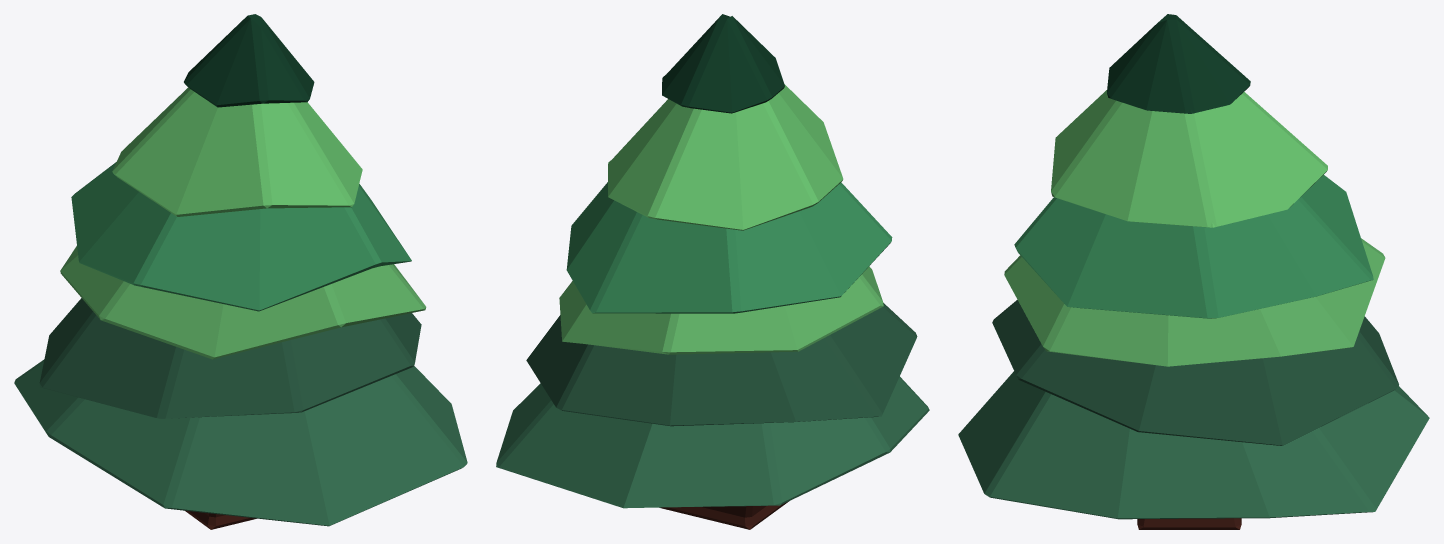
File: STA_Project_Vegetations_Connifer_V1.fbx
3 renders of one model, left to right at view 1: azimuth 30°, elevation 25°; view 2: azimuth 150°, elevation 25°; view 3: azimuth 270°, elevation 25°, orthographic. The views are drawn at different scales.
Parts seen in each view (by area): view 1: Connifer_V1; view 2: Connifer_V1; view 3: Connifer_V1.
Part boxes in pixels (left/top/right/bottom): Connifer_V1: left=14, top=14, right=467, bottom=529; Connifer_V1: left=496, top=14, right=929, bottom=529; Connifer_V1: left=958, top=14, right=1429, bottom=529.
Bounding box in the file's own units: 311 × 405 × 349.
Materials: 2 (1 with a texture image).
